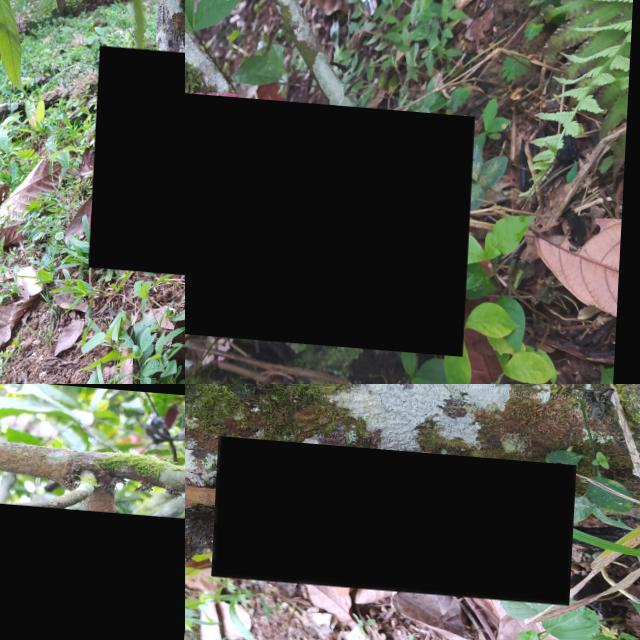Fitoftora: (0, 496, 185, 640), (92, 43, 185, 272)
Monilia: (185, 82, 477, 348), (216, 434, 579, 597)
